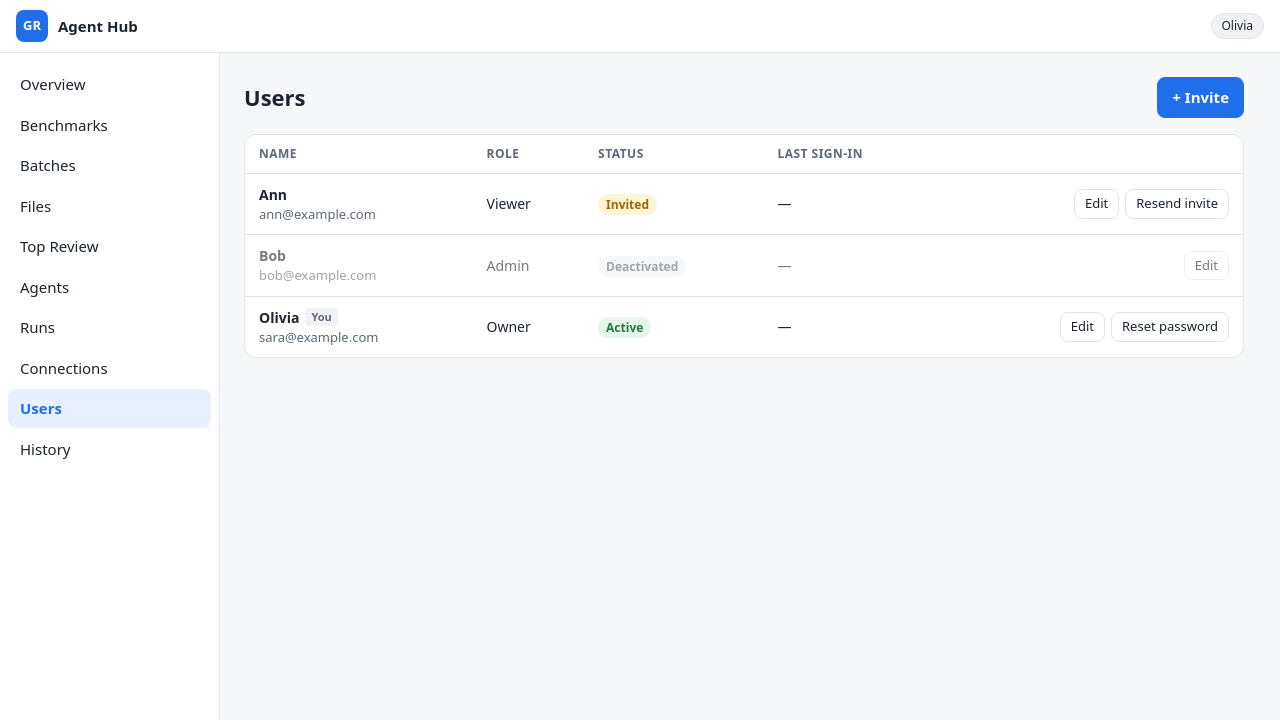
the last-Owner rule is explained when demoting yourself
The image size is (1280, 720).
Click the button "Edit" in the row of "You" at (1082, 327), box x1=1060 y1=312 x2=1105 y2=342
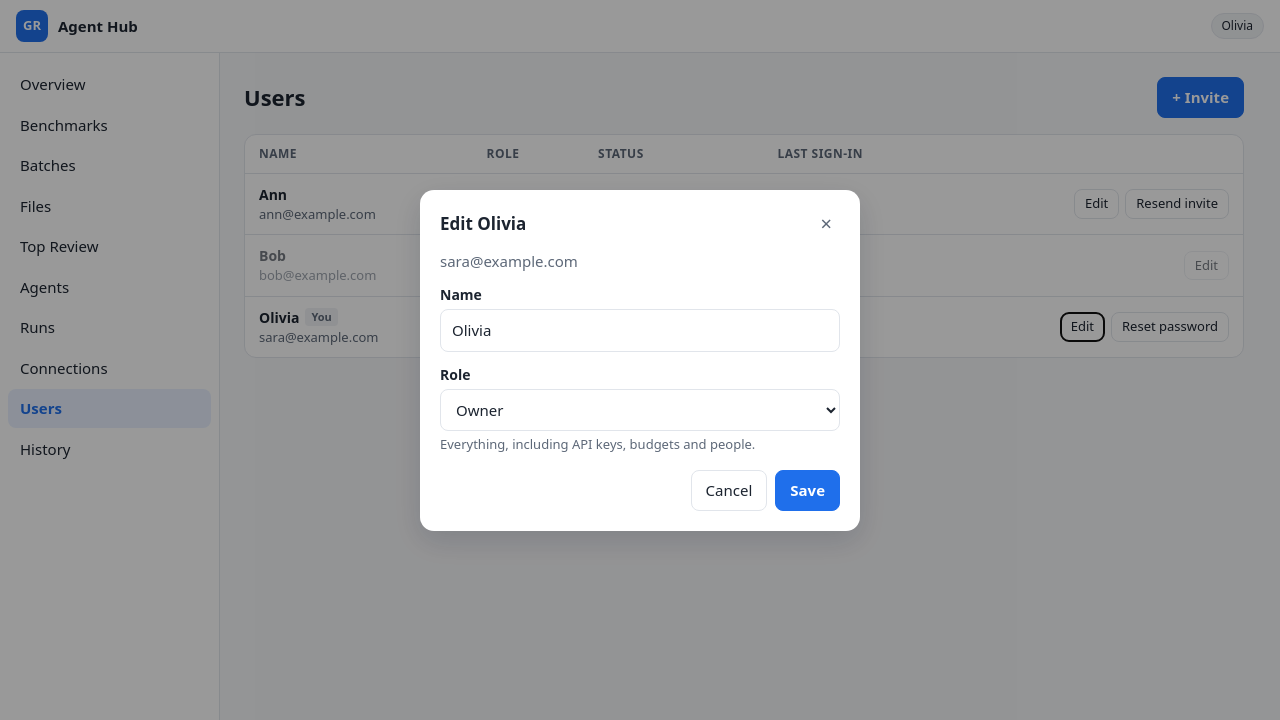
Select "Viewer" in the dropdown labelled "Role" at (640, 410), box x1=440 y1=388 x2=840 y2=430
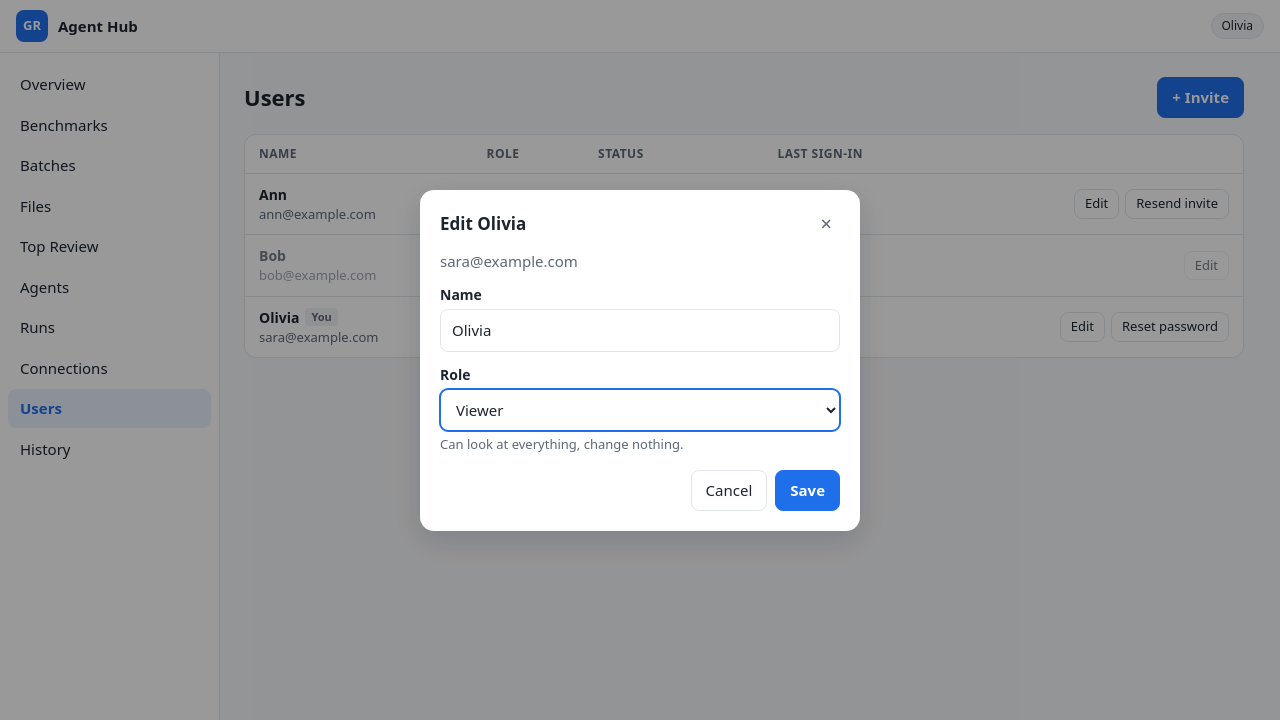
Click the button "Save" at (808, 490), box x1=775 y1=470 x2=840 y2=510
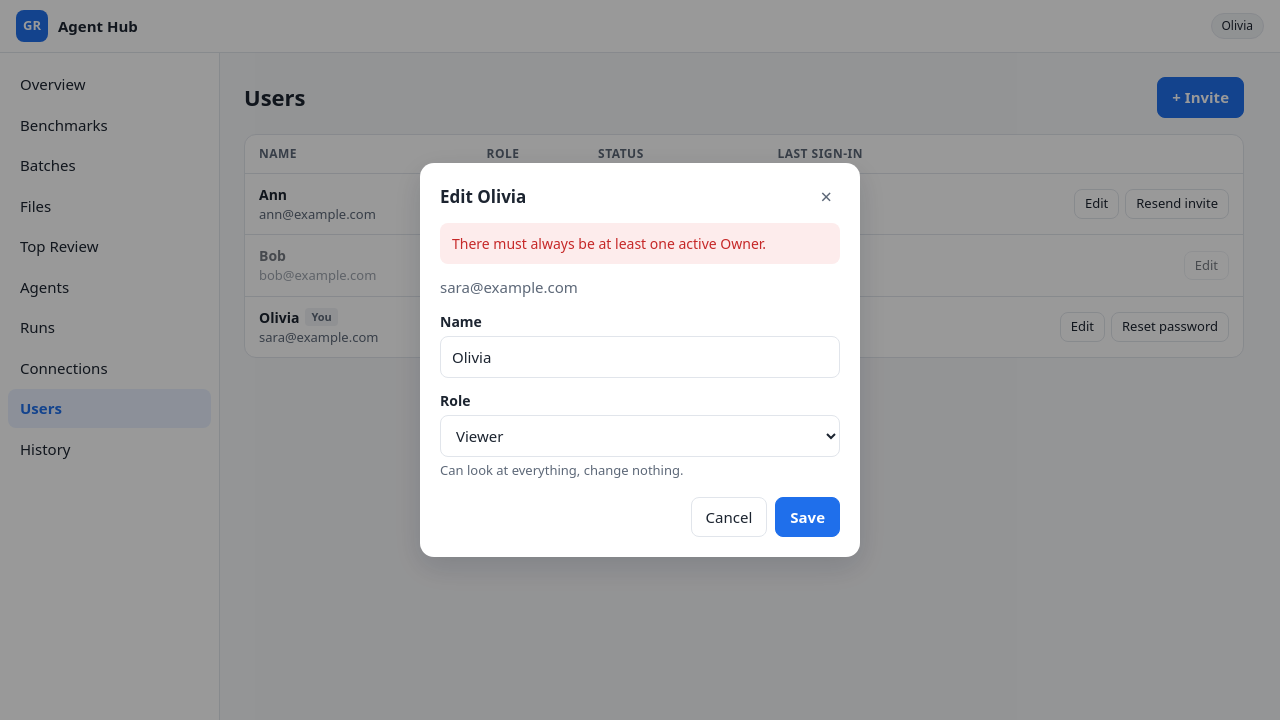
Result: the message shows "at least one active Owner" at x1=452 y1=234 x2=766 y2=253
